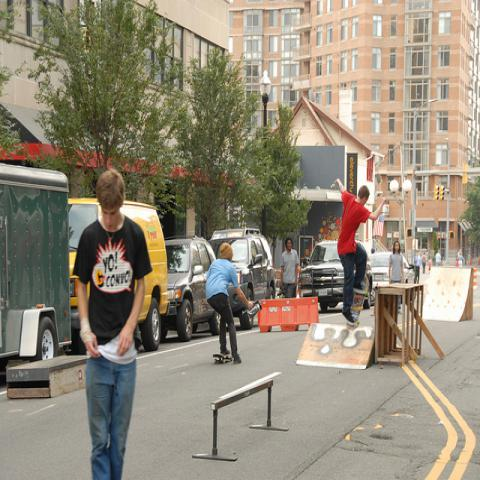car: (209, 228, 276, 327), (160, 237, 220, 340), (299, 240, 373, 312), (370, 252, 416, 306)
truck: (70, 199, 170, 352), (2, 165, 74, 360), (227, 233, 277, 319)
